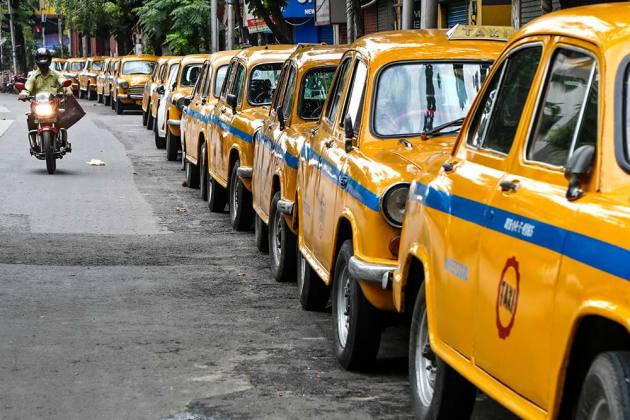motorbike: (13, 79, 80, 174)
taxi: (392, 4, 629, 420), (295, 29, 516, 368), (252, 44, 346, 281), (207, 45, 298, 230), (181, 50, 238, 199), (166, 55, 208, 161), (142, 57, 180, 148), (113, 55, 155, 115), (78, 55, 98, 100), (96, 57, 114, 106), (67, 59, 80, 92)
